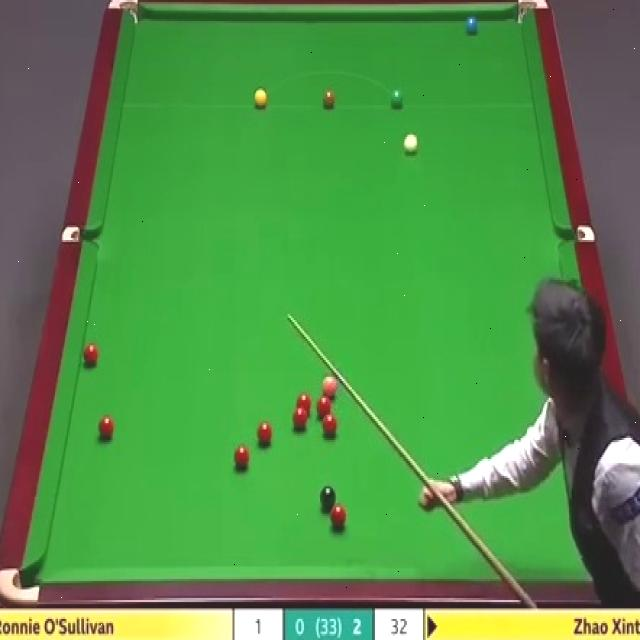black-ball: (319, 484, 337, 515)
blue-ball: (464, 13, 480, 39)
brown-ball: (322, 89, 337, 111)
green-ball: (390, 89, 404, 111)
pink-ball: (318, 373, 338, 399)
red-ball: (96, 412, 116, 443), (233, 445, 251, 474), (329, 504, 347, 530), (257, 420, 273, 446), (82, 342, 98, 368), (322, 412, 338, 437), (292, 407, 308, 432), (295, 392, 312, 414), (316, 396, 332, 417)
white-ball: (402, 130, 420, 155)
yellow-ball: (254, 88, 268, 110)
